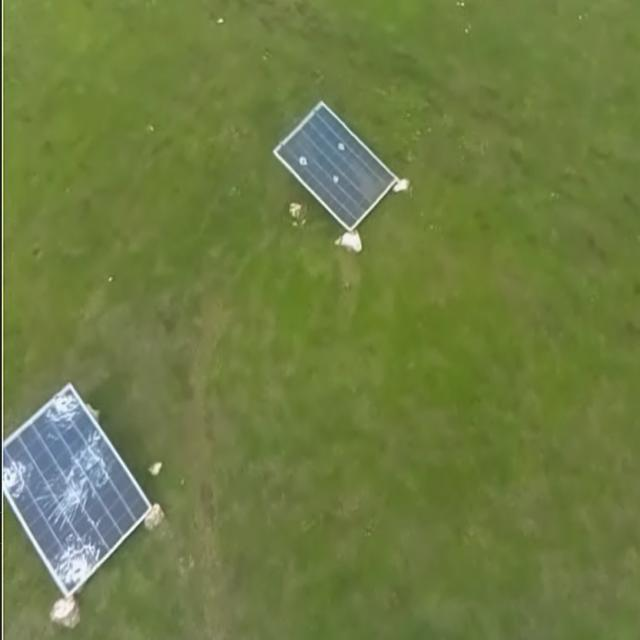Bird-drop: (330, 172, 342, 186), (296, 156, 308, 169), (336, 140, 348, 152)
Physical-damage: (48, 438, 113, 526), (42, 541, 100, 587), (2, 456, 33, 497), (47, 391, 81, 422)
